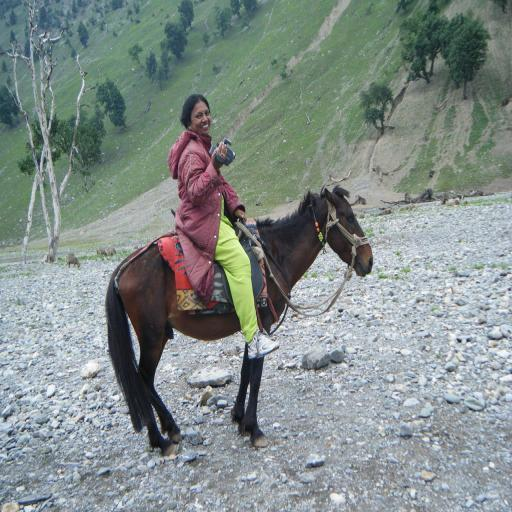Horse: (106, 182, 374, 460)
